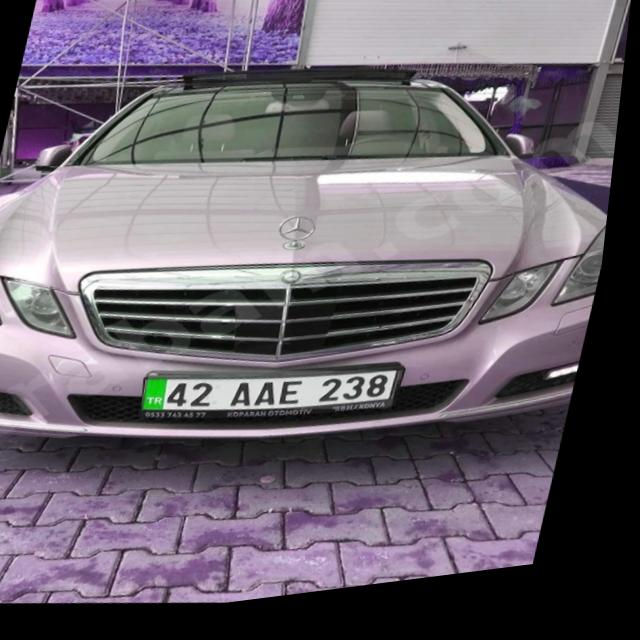license_plate: (148, 350, 415, 445)
